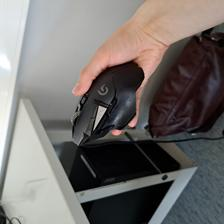mouse: (71, 58, 145, 145)
